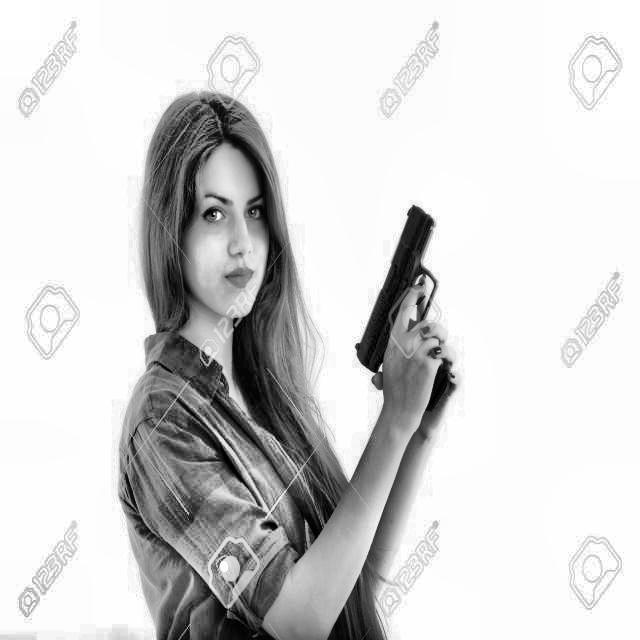pistol: (327, 197, 474, 410)
